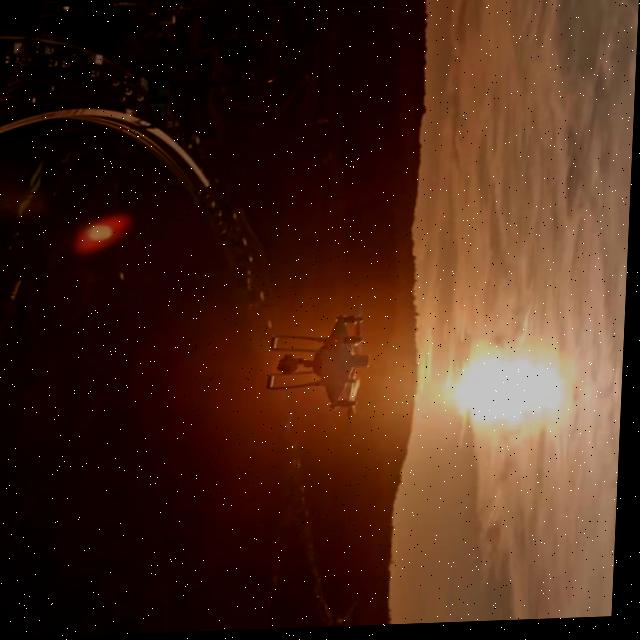drone: (271, 306, 377, 425)
